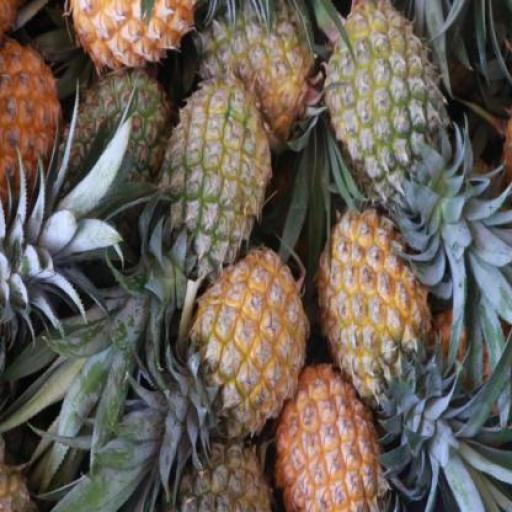------------------------------: (324, 2, 442, 216), (162, 84, 268, 279), (198, 2, 316, 146)
Pineapple - v8 v1: (316, 214, 425, 410), (191, 254, 298, 438), (275, 365, 388, 512), (0, 31, 60, 231)
